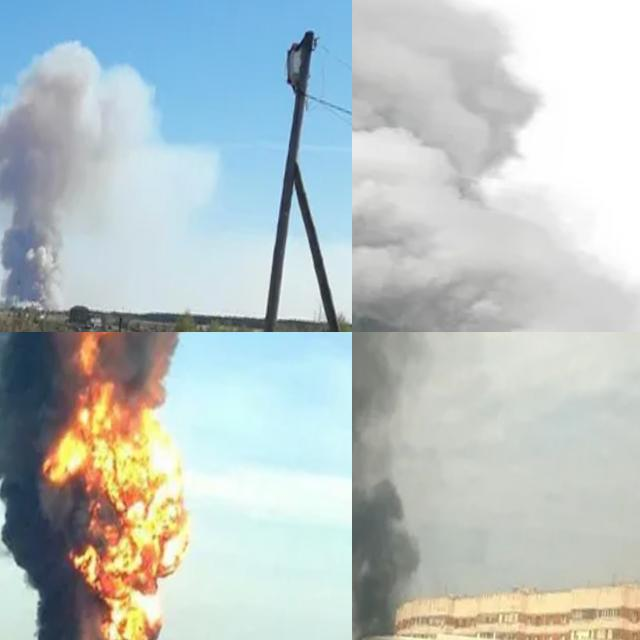smoke: (352, 0, 640, 332), (0, 332, 308, 640), (0, 29, 161, 316), (352, 386, 434, 640)
